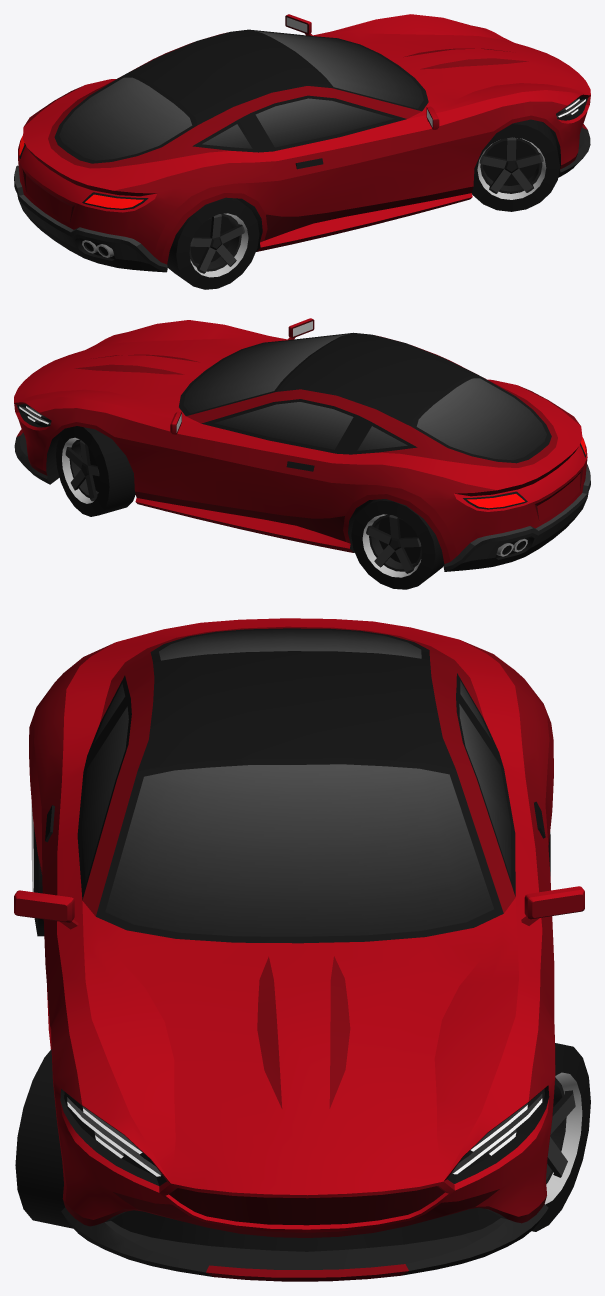
File: Car_187.glb
3 renders of one model, top to bottom at view 1: azimuth 30°, elevation 25°; view 2: azimuth 150°, elevation 25°; view 3: azimuth 270°, elevation 25°, orthographic. The views are drawn at different scales.
Parts seen in each view (by area): view 1: Car_187, wheel_1_Car_187_Wheel_1R, wheel_3_Car_187_Wheel_2R; view 2: Car_187, wheel_2_Car_187_Wheel_2L, wheel_0_Car_187_Wheel_1L; view 3: Car_187, wheel_1_Car_187_Wheel_1R, wheel_0_Car_187_Wheel_1L.
Part boxes in pixels (x1=…): Car_187: x1=14, y1=14, x2=590, y2=272; wheel_1_Car_187_Wheel_1R: x1=471, y1=119, x2=560, y2=211; wheel_3_Car_187_Wheel_2R: x1=167, y1=197, x2=259, y2=289; Car_187: x1=14, y1=318, x2=590, y2=571; wheel_2_Car_187_Wheel_2L: x1=351, y1=499, x2=444, y2=589; wheel_0_Car_187_Wheel_1L: x1=56, y1=426, x2=135, y2=516; Car_187: x1=14, y1=618, x2=584, y2=1281; wheel_1_Car_187_Wheel_1R: x1=15, y1=1049, x2=72, y2=1228; wheel_0_Car_187_Wheel_1L: x1=531, y1=1043, x2=590, y2=1231.
Bounding box in the file's own units: 4.37 × 1.24 × 2.08.
Materials: 2 (2 with a texture image).
